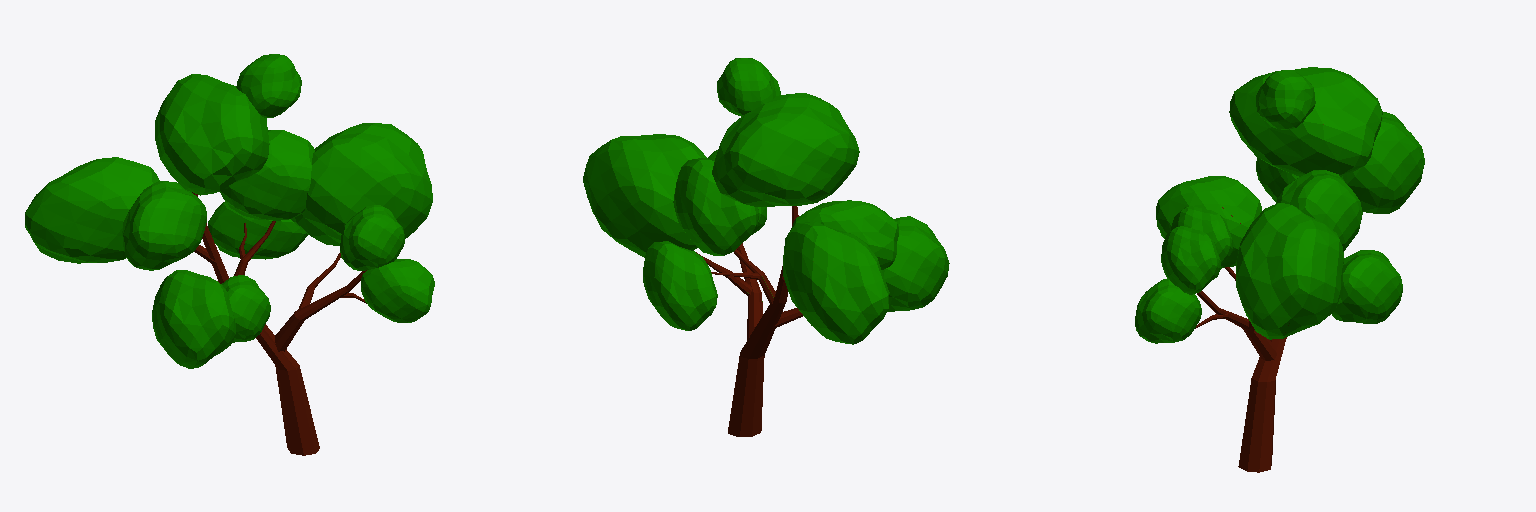
The picture shows the model from 3 angles: view 1: azimuth 30°, elevation 25°; view 2: azimuth 150°, elevation 25°; view 3: azimuth 270°, elevation 25°; orthographic projection.
Visible parts, largest first — view 1: default2; view 2: default2; view 3: default2.
Boxes of the visible parts, x1,y1,x2,y2 form: default2: [25, 54, 434, 455]; default2: [583, 58, 949, 436]; default2: [1135, 67, 1424, 472].
Size of the model in its own units: 10.83 by 11.48 by 7.86.
Materials: 2 (1 with a texture image).